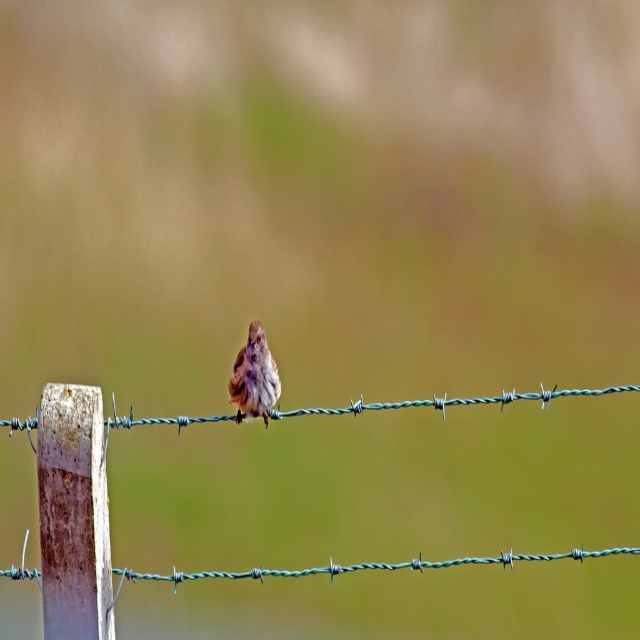Sparrow: (227, 315, 282, 431)
